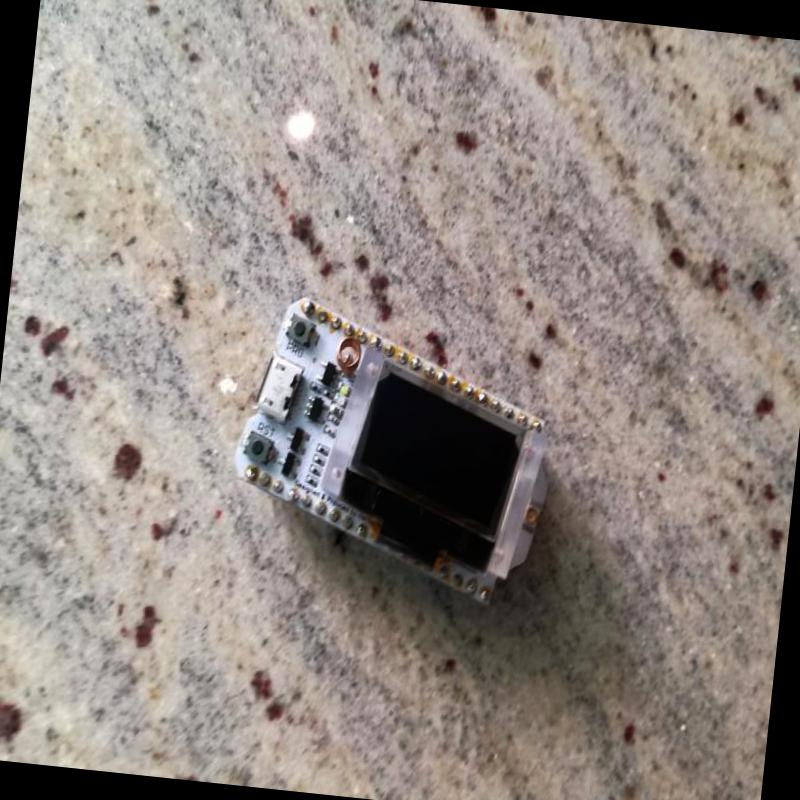Heltec_ESP32_Lora: (219, 286, 570, 622)
